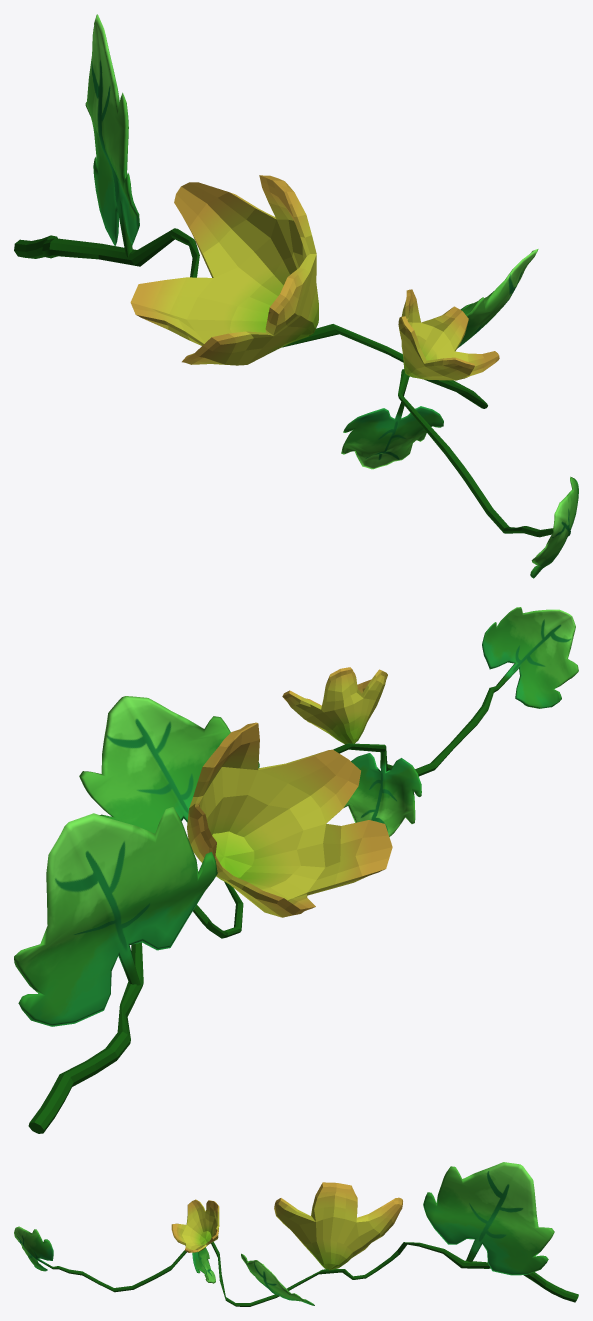
File: Veg_Calabacin_M.fbx
3 views of the same model, one above another, from view 1: azimuth 30°, elevation 25°; view 2: azimuth 150°, elevation 25°; view 3: azimuth 270°, elevation 25° (orthographic). The views are drawn at different scales.
Visible parts, largest first — view 1: hoja1.003; view 2: hoja1.003; view 3: hoja1.003.
Boxes of the visible parts, x1=… form: hoja1.003: x1=14, y1=14, x2=578, y2=578; hoja1.003: x1=14, y1=607, x2=578, y2=1133; hoja1.003: x1=14, y1=1162, x2=578, y2=1306.
Size of the model in its own units: 35.56 by 12.16 by 9.96.
